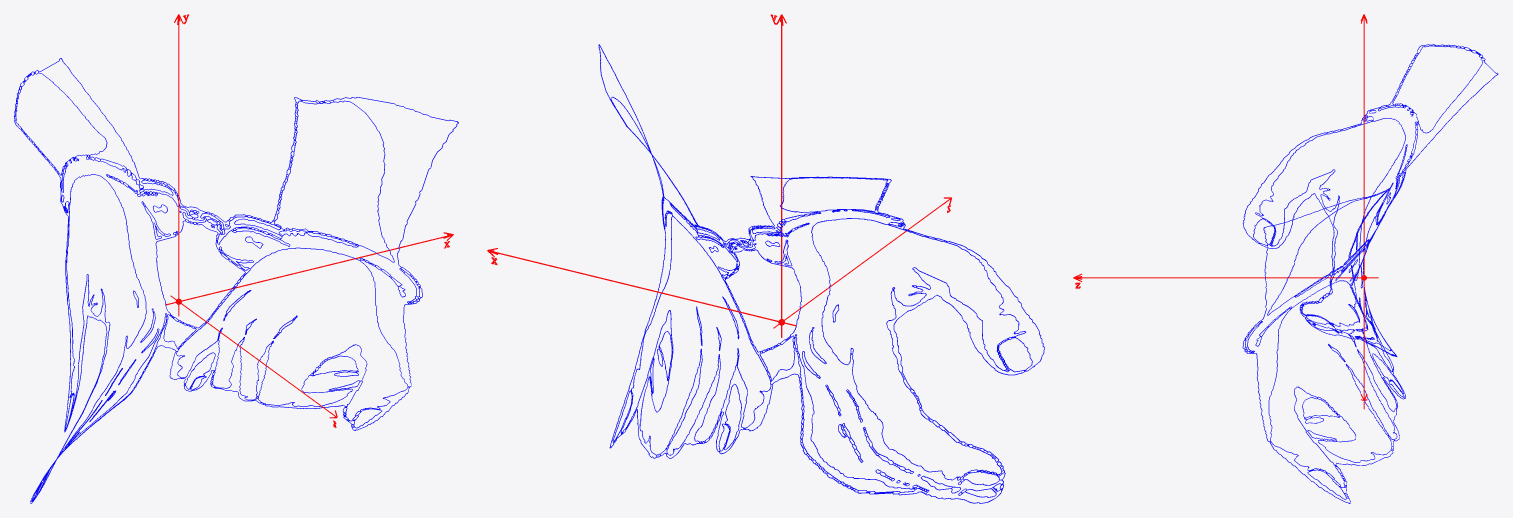
3 renders of one model, left to right at view 1: azimuth 30°, elevation 25°; view 2: azimuth 150°, elevation 25°; view 3: azimuth 270°, elevation 25°, orthographic. The views are drawn at different scales.
Bounding box in the file's own units: 1.65 × 1.57 × 1.46.
